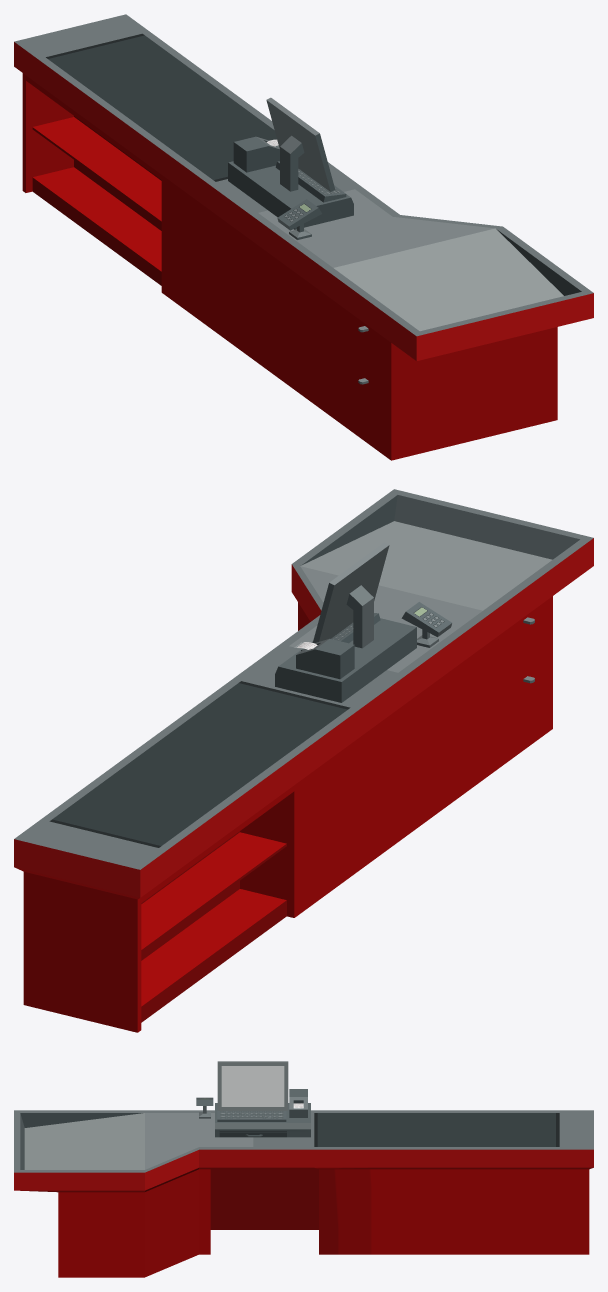
Rendered from mesh_cashout_01.fbx.
The picture shows the model from 3 angles, top to bottom: view 1: azimuth 30°, elevation 25°; view 2: azimuth 150°, elevation 25°; view 3: azimuth 270°, elevation 25°; orthographic projection. The views are drawn at different scales.
Visible parts, largest first — view 1: mesh_cashout_01; view 2: mesh_cashout_01; view 3: mesh_cashout_01, Cash tray handle.
Boxes of the visible parts, box(x1,y1,x2,y2) form: mesh_cashout_01: box(14, 14, 593, 460); mesh_cashout_01: box(14, 489, 593, 1032); mesh_cashout_01: box(14, 1061, 593, 1277); Cash tray handle: box(219, 1131, 286, 1137).
Size of the model in its own units: 0.013 by 0.0165 by 0.0508.
